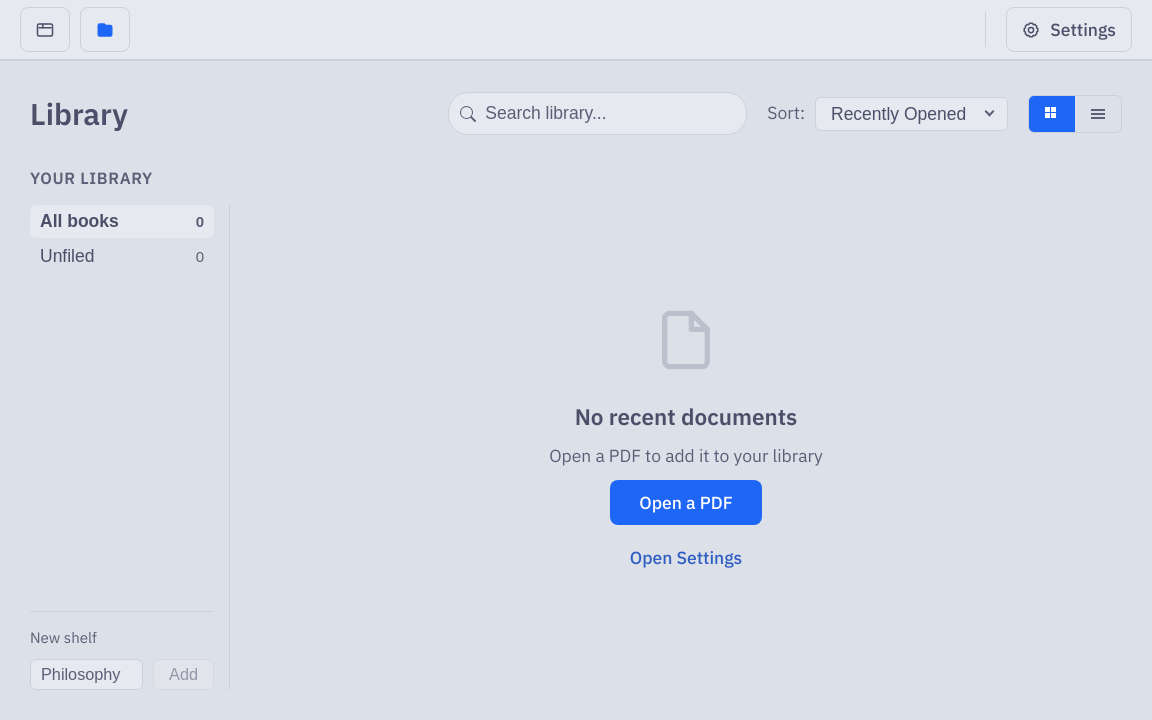
Test case: release blockers (109) › B3 (112): a fresh install has a path to Settings — the empty library offers it
Expected: the heading "Library" is shown, [30,91,128,136]
Click the button "Open Settings".
click(686, 557)  # box [610,535,762,580]
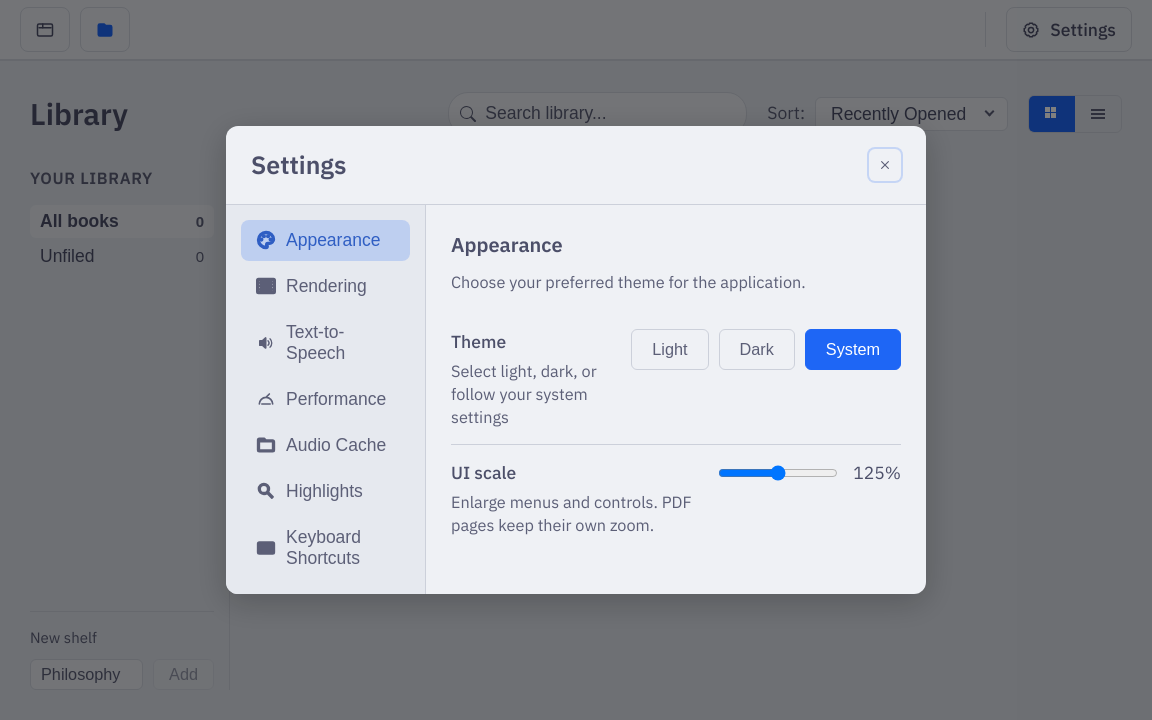
Expected: the dialog "Settings" is shown
